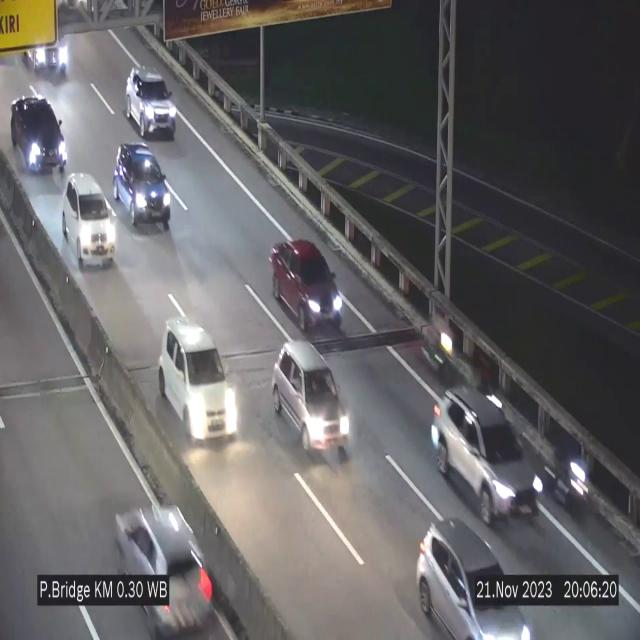Car: (413, 509, 538, 640), (115, 481, 215, 640), (431, 388, 541, 530), (159, 317, 237, 438), (273, 341, 351, 459), (268, 236, 349, 342), (8, 92, 69, 178), (113, 142, 171, 230), (62, 174, 116, 268), (124, 65, 177, 139)
Motorcycle: (555, 434, 587, 524), (425, 323, 457, 391)
